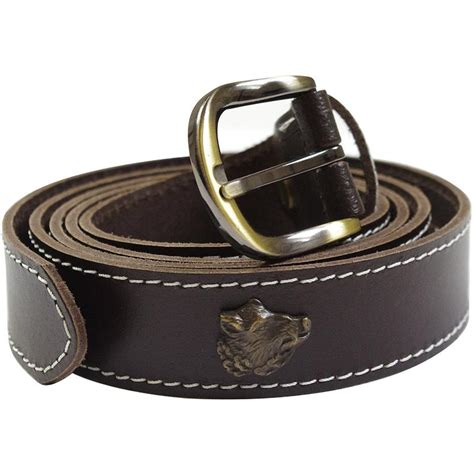cuero: (4, 151, 474, 402)
